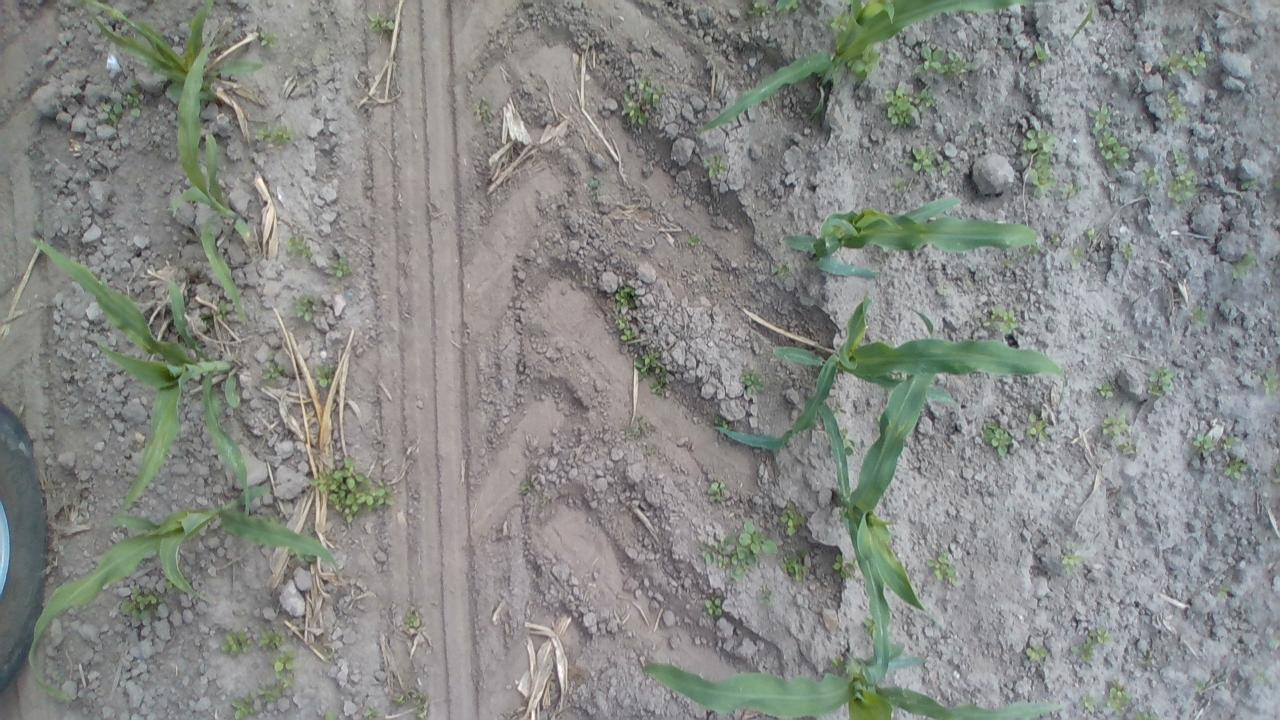Maize: (29, 485, 347, 702), (26, 234, 255, 519), (811, 302, 961, 684), (713, 289, 1067, 450), (694, 1, 1028, 133), (636, 641, 1071, 720), (168, 41, 255, 331), (780, 192, 1042, 282), (84, 0, 268, 105)
Weeds: (1004, 226, 1132, 276), (309, 453, 397, 523), (699, 515, 782, 582), (230, 651, 300, 715), (322, 693, 432, 720), (1085, 104, 1132, 165), (1144, 151, 1200, 202), (1022, 128, 1060, 192), (620, 76, 666, 126), (880, 83, 936, 124), (912, 41, 970, 79), (118, 578, 160, 624), (632, 347, 669, 397), (1099, 408, 1136, 457), (1072, 626, 1114, 668), (95, 88, 141, 122), (613, 285, 639, 344), (1162, 46, 1209, 77), (910, 144, 950, 176), (200, 300, 232, 338), (254, 122, 300, 148), (980, 304, 1016, 334), (1146, 364, 1178, 397), (928, 551, 957, 586), (736, 366, 765, 399), (983, 424, 1016, 452), (1059, 541, 1085, 576), (219, 629, 251, 655), (1106, 684, 1132, 714), (748, 1, 799, 16), (470, 96, 493, 129), (366, 12, 394, 38), (284, 232, 310, 260), (778, 505, 801, 536), (255, 628, 286, 651), (1026, 413, 1050, 442), (1230, 253, 1256, 279), (1026, 41, 1048, 70), (782, 556, 806, 582), (830, 552, 854, 578), (706, 154, 730, 180), (1166, 87, 1186, 118), (294, 294, 316, 322), (704, 481, 728, 504), (325, 258, 351, 278), (258, 362, 284, 381), (1224, 459, 1250, 478), (1192, 435, 1214, 456), (703, 596, 723, 618), (1264, 367, 1280, 394), (314, 363, 332, 386), (255, 30, 278, 48), (1026, 644, 1048, 662), (760, 590, 778, 610), (770, 260, 790, 278), (406, 606, 421, 629), (1218, 581, 1234, 602), (1062, 180, 1081, 197), (1238, 179, 1264, 191), (1098, 381, 1114, 399), (516, 481, 530, 499), (1192, 307, 1206, 325), (1220, 439, 1238, 452), (1134, 710, 1163, 718), (589, 176, 599, 194), (687, 234, 700, 247)
